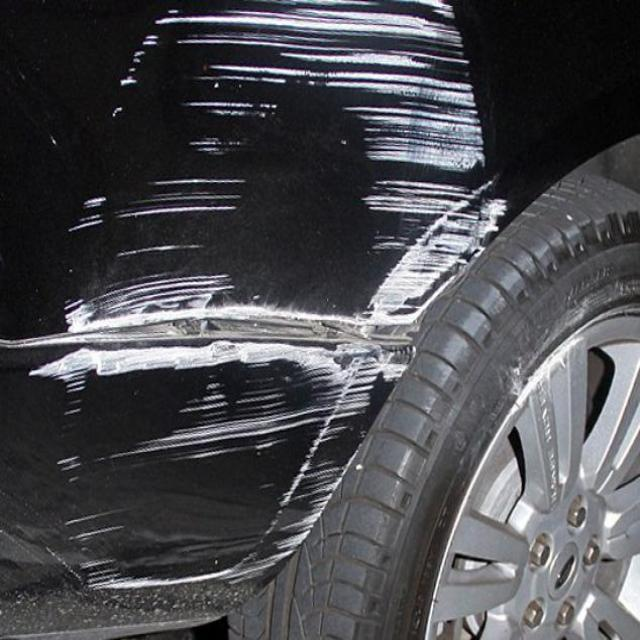scratch: (28, 8, 514, 610)
